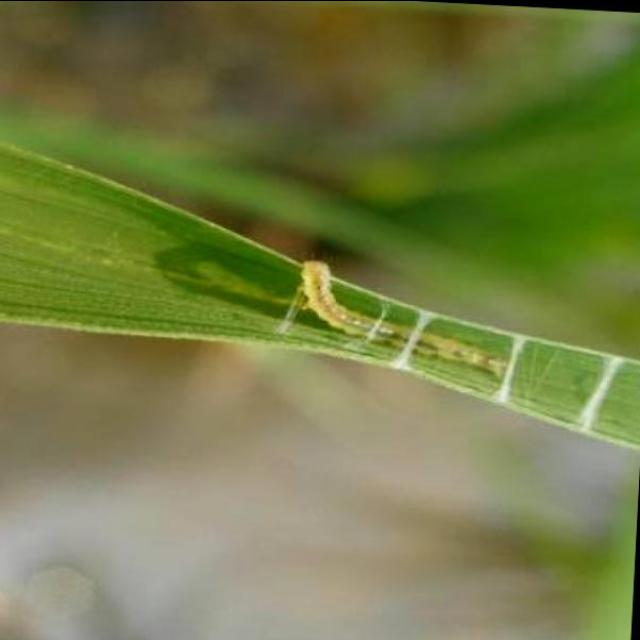leaf folder: (296, 259, 507, 376)
